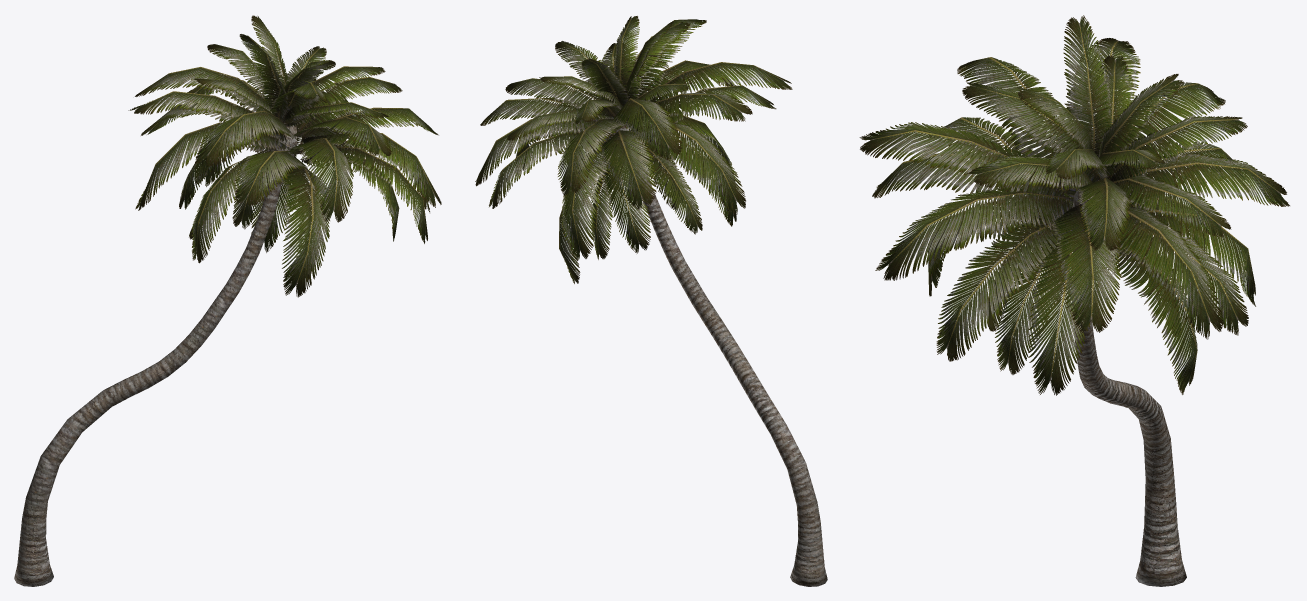
The model's file is Palmu3_2.fbx.
3 views of the same model, side by side, from view 1: azimuth 30°, elevation 25°; view 2: azimuth 150°, elevation 25°; view 3: azimuth 270°, elevation 25° (orthographic). The views are drawn at different scales.
Visible parts, largest first — view 1: Palmu3; view 2: Palmu3; view 3: Palmu3.
Part boxes in pixels (<box>): Palmu3: <box>14,15,441,586</box>; Palmu3: <box>475,16,827,586</box>; Palmu3: <box>859,15,1289,586</box>.
Bounding box in the file's own units: 683 × 874 × 512.
